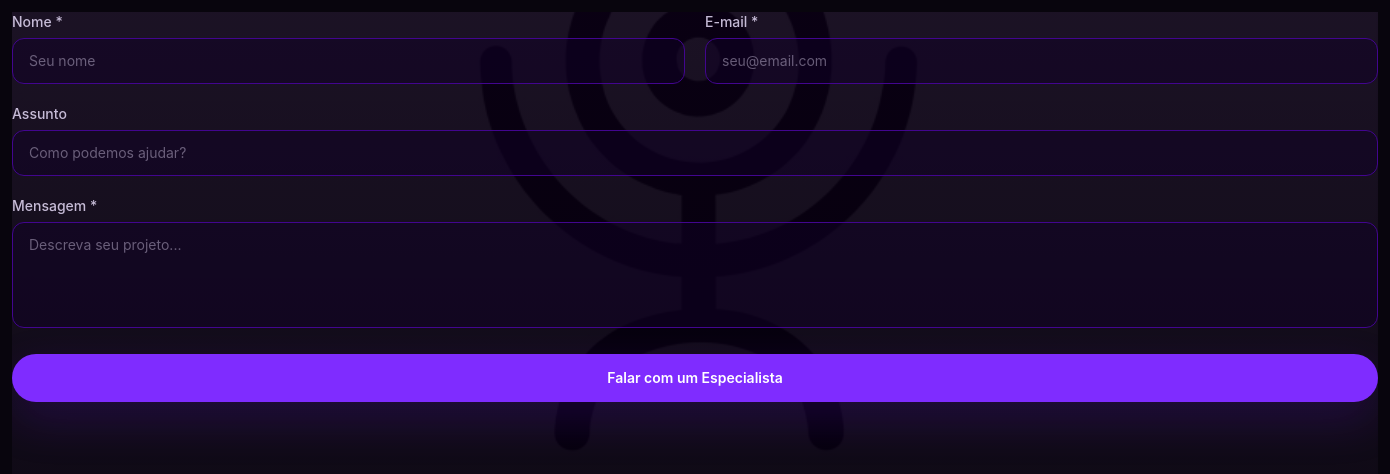
Test case: ContactForm › shows error message when submission fails
This screenshot has width=1390, height=474.
Type "Maria" into the field with placeholder "Seu nome". click: (348, 61)
box: [12, 38, 685, 84]
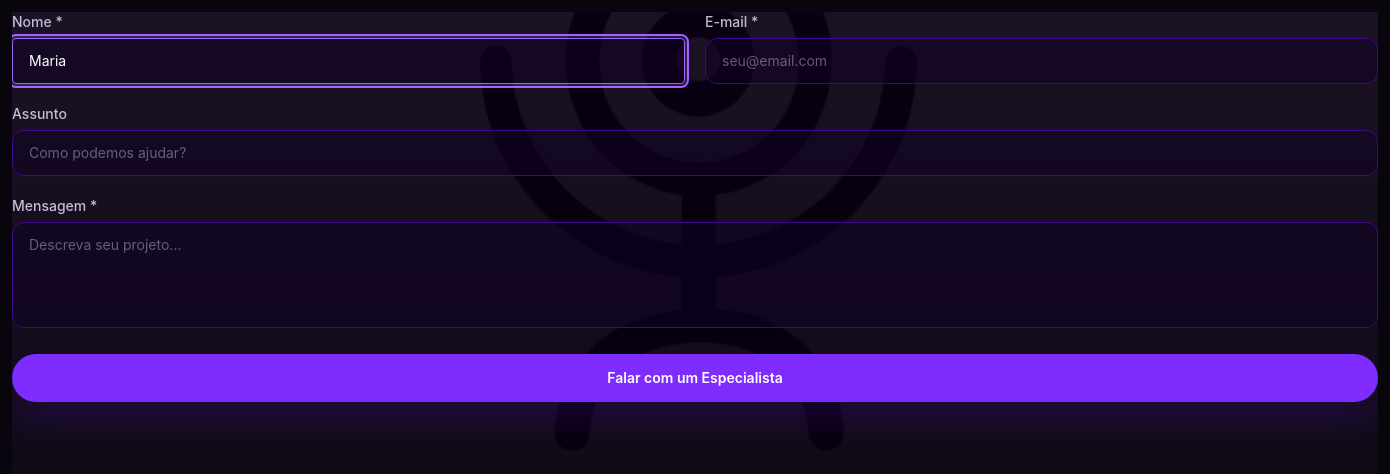
Type "maria@email.com" into the field with placeholder "seu@email.com". click: (1042, 61)
box: [705, 38, 1378, 84]
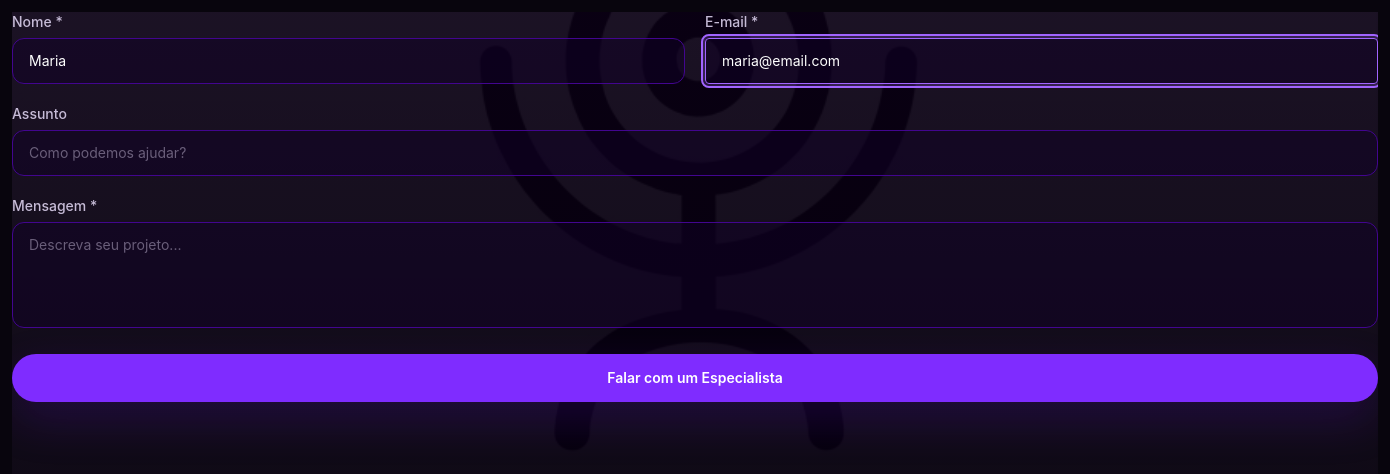
Type "Quero saber mais sobre os serviços" into the text box with placeholder "Descreva seu projeto...". click: (695, 275)
box: [12, 222, 1378, 328]
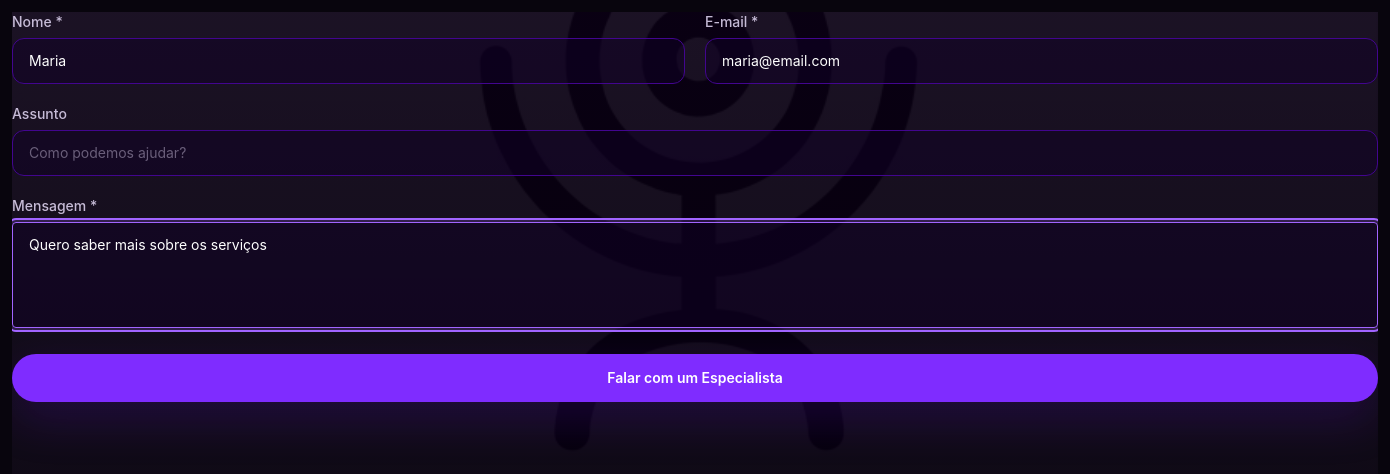
Click the button "Falar com um Especialista". click: (695, 378)
box: [12, 354, 1378, 402]
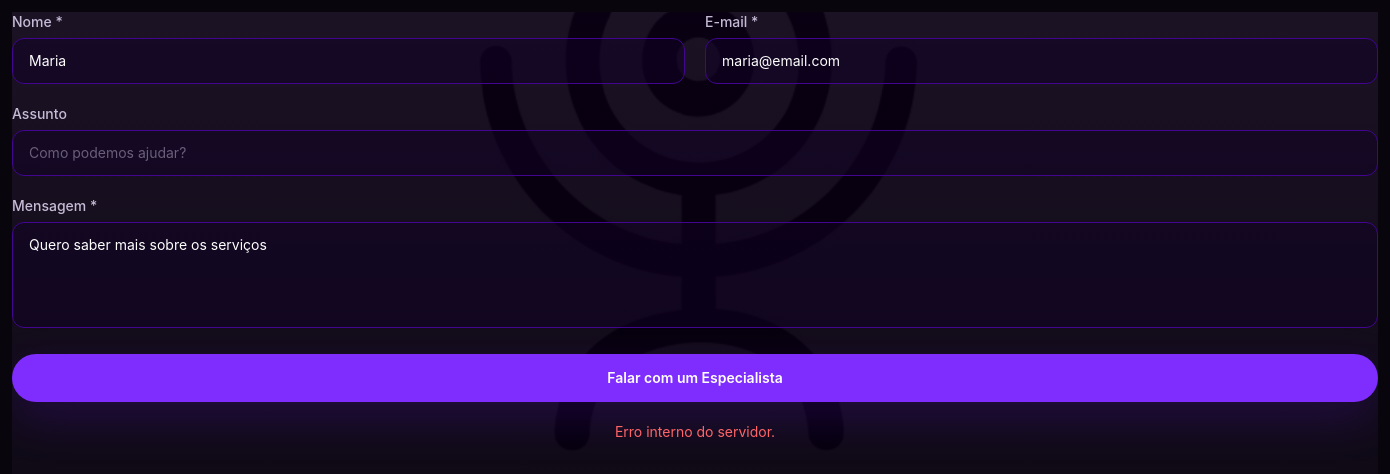
Expected: the text "Erro interno do servidor." is shown, [615, 423, 775, 440]
